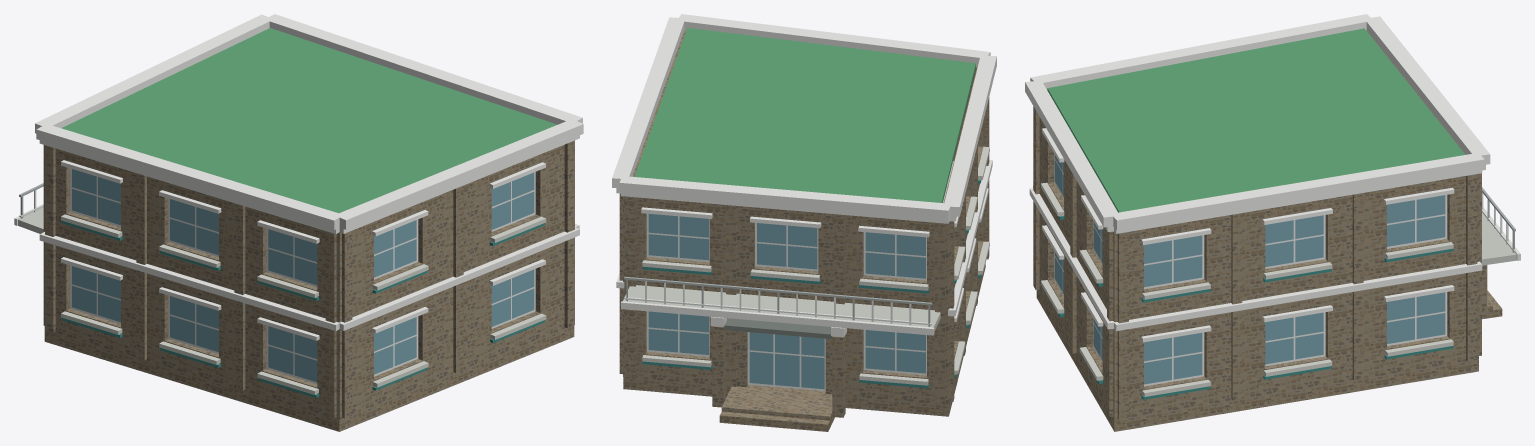
The picture shows the model from 3 angles, left to right: view 1: azimuth 30°, elevation 25°; view 2: azimuth 150°, elevation 25°; view 3: azimuth 270°, elevation 25°; orthographic projection. The views are drawn at different scales.
Visible parts, largest first — view 1: history__stone, history__green, history__cap, history__glass, history__sill, history__frame, history__teal; view 2: history__green, history__stone, history__cap, history__glass, history__frame, history__slab, history__sill, history__stair-front, history__threshold-front, history__steel, history__entrance, history__teal; view 3: history__stone, history__green, history__cap, history__glass, history__sill, history__frame, history__teal, history__slab.
Boxes of the visible parts, x1,y1,x2,y2 form: history__stone: [43, 140, 574, 431]; history__green: [61, 28, 557, 213]; history__cap: [14, 14, 583, 340]; history__glass: [72, 169, 534, 382]; history__sill: [61, 214, 546, 394]; history__frame: [19, 168, 535, 383]; history__teal: [61, 221, 544, 397]; history__green: [634, 28, 975, 202]; history__stone: [619, 30, 989, 417]; history__cap: [612, 14, 996, 336]; history__glass: [648, 213, 925, 389]; history__frame: [624, 213, 931, 391]; history__slab: [623, 161, 953, 331]; history__sill: [642, 146, 989, 385]; history__stair-front: [719, 403, 831, 431]; history__threshold-front: [723, 384, 834, 423]; history__steel: [624, 276, 932, 326]; history__entrance: [723, 318, 832, 339]; history__teal: [642, 179, 981, 388]; history__stone: [1033, 31, 1487, 431]; history__green: [1047, 28, 1465, 212]; history__cap: [1025, 14, 1520, 342]; history__glass: [1055, 155, 1445, 384]; history__sill: [1041, 182, 1453, 396]; history__frame: [1054, 153, 1515, 386]; history__teal: [1058, 216, 1453, 399]; history__slab: [1482, 213, 1516, 265].
Bounding box in the file's own units: 15.94 × 7.78 × 16.17.
10 materials, 1 textured.
